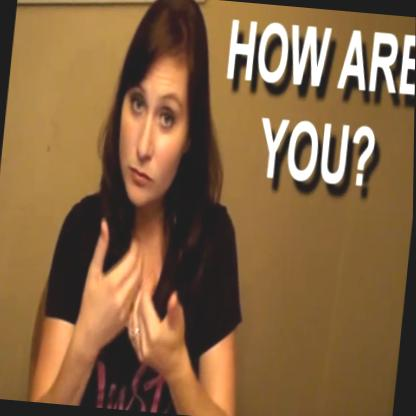HowAreYou: (63, 204, 218, 400)
